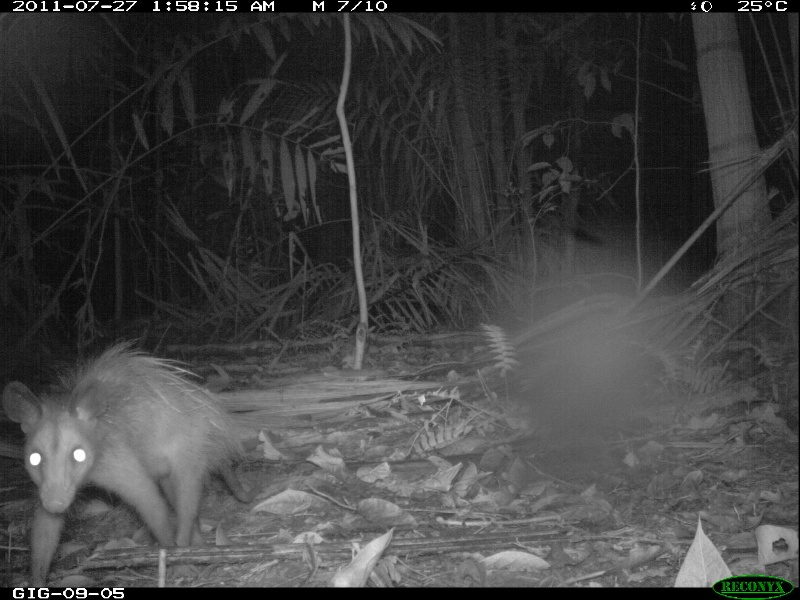opossum: (6, 339, 247, 585)
